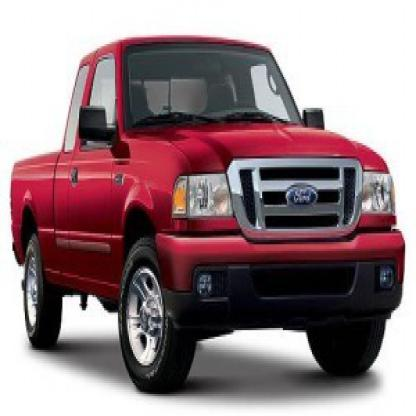Vehicle: (11, 38, 405, 398)
